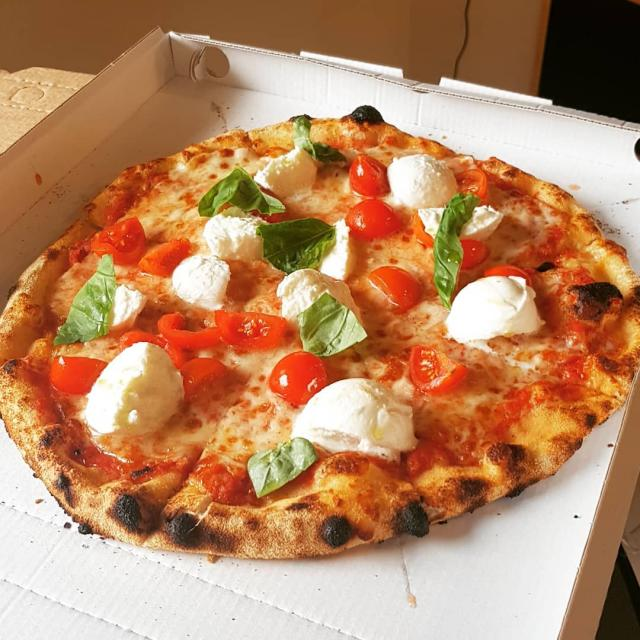basil: (50, 251, 119, 349), (429, 190, 479, 314), (195, 162, 288, 220), (243, 436, 323, 502), (254, 216, 341, 276), (295, 292, 370, 360), (290, 115, 348, 165)
pizza: (0, 102, 640, 563)
tomatoes: (212, 306, 288, 352), (268, 349, 328, 406), (87, 216, 151, 266), (408, 343, 469, 395), (344, 198, 406, 243), (51, 351, 112, 396), (370, 263, 422, 311), (119, 329, 185, 366), (158, 312, 226, 346), (178, 357, 230, 399), (138, 237, 192, 277), (349, 152, 393, 198), (456, 237, 492, 269), (457, 167, 487, 204), (408, 212, 438, 248), (485, 265, 533, 283)
